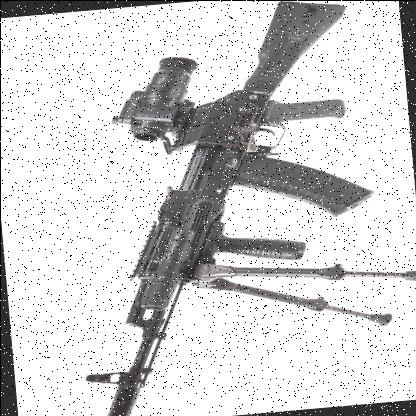rifle: (34, 1, 390, 416)
